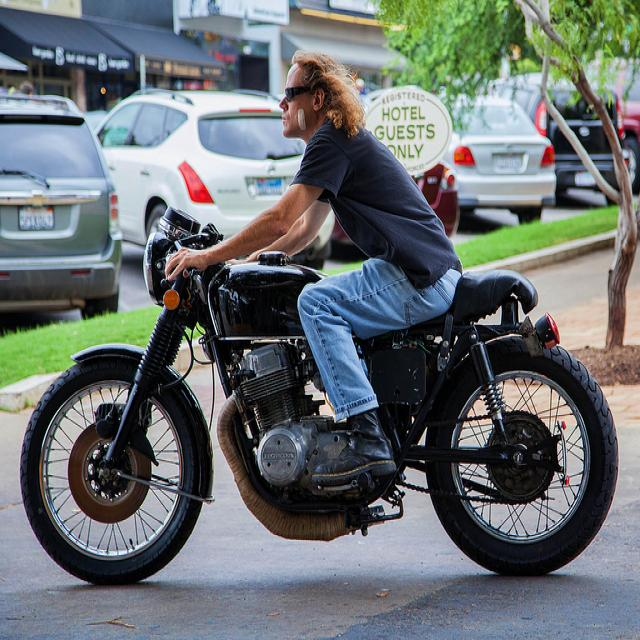motor: (19, 205, 619, 589)
